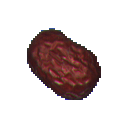gd: (15, 18, 115, 112)
